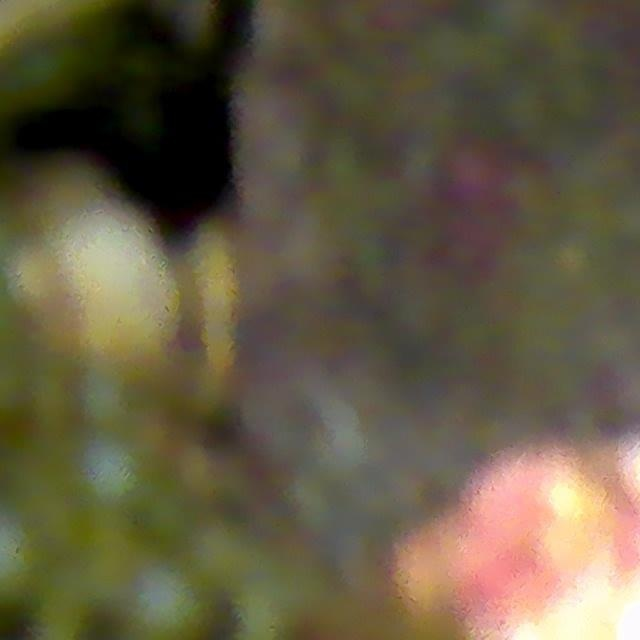SeaGrape: (77, 430, 160, 511), (126, 563, 212, 640)
